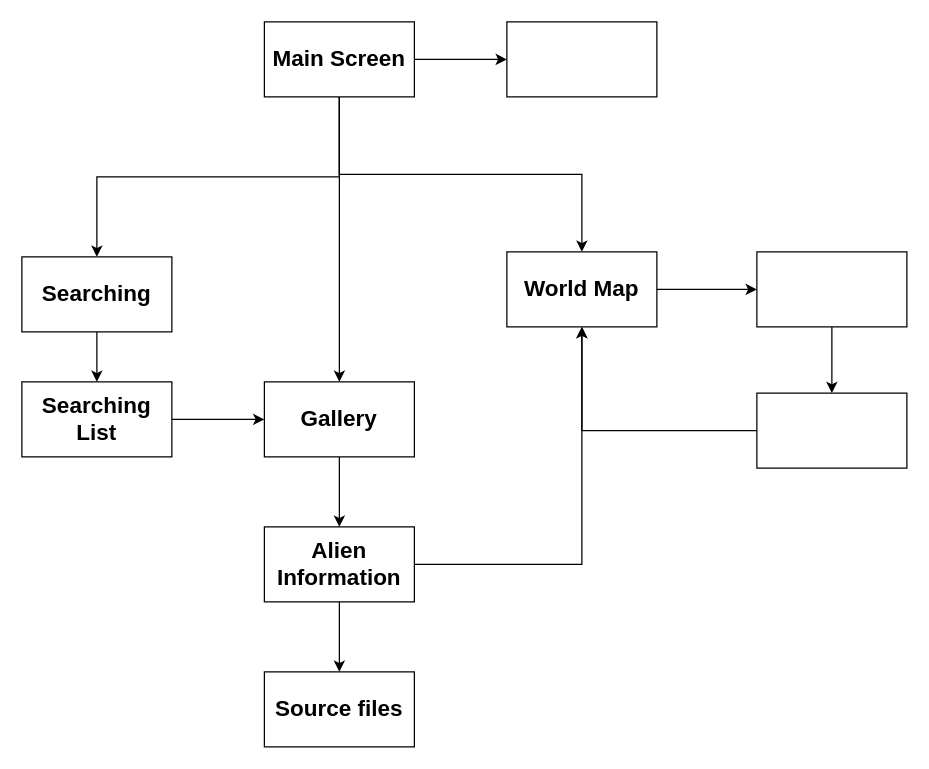
Image size: 929x769. Some labels were removed from this diagram. Each missing label, with the box of its shape:
Comment Section: (756, 392, 907, 468)
Description Location: (756, 251, 907, 327)
News Related: (506, 21, 657, 97)
